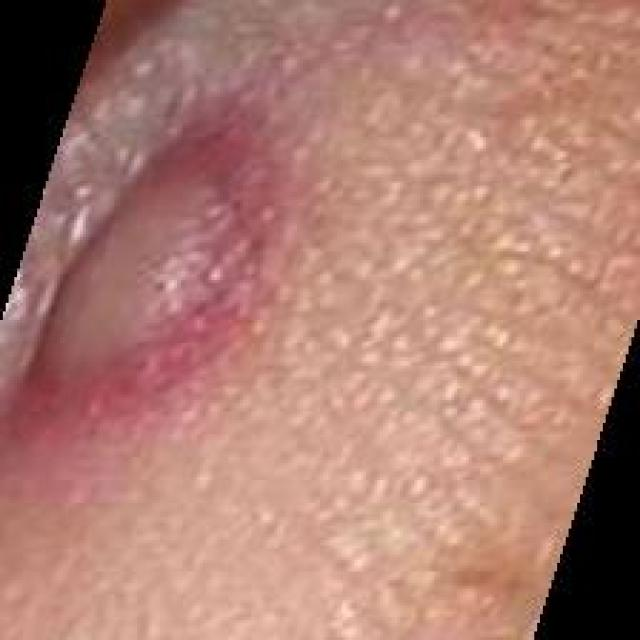monkeypox: (47, 0, 430, 490)
